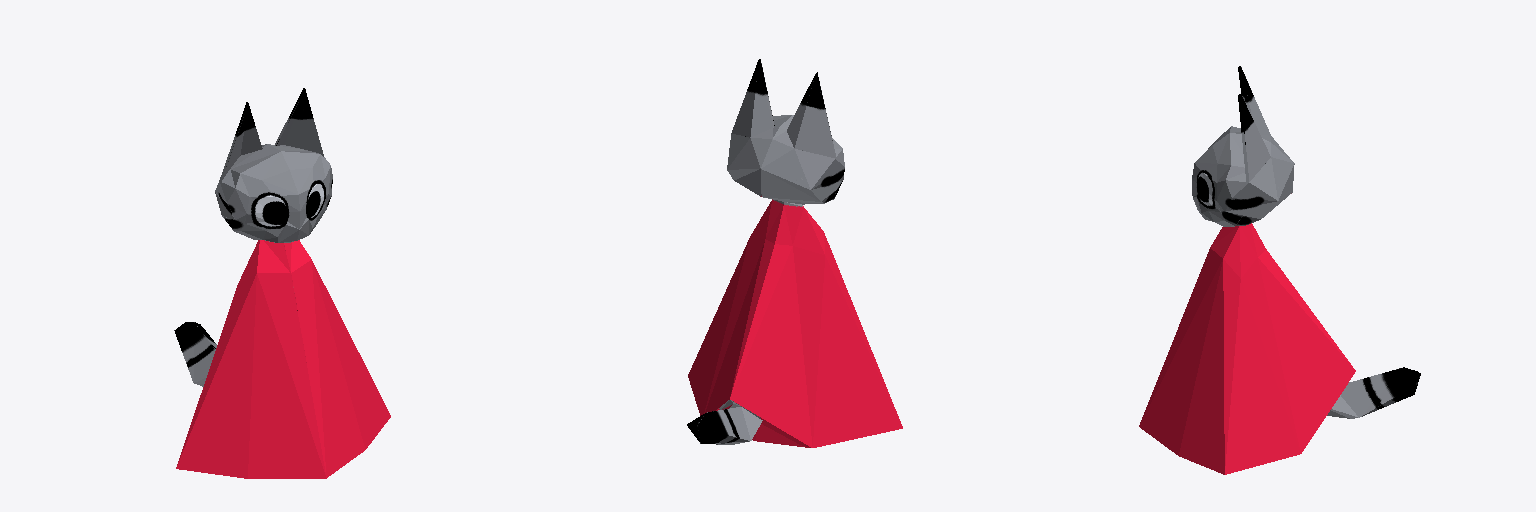
3 views of the same model, side by side, from view 1: azimuth 30°, elevation 25°; view 2: azimuth 150°, elevation 25°; view 3: azimuth 270°, elevation 25° (orthographic).
Parts seen in each view (by area): view 1: Cube; view 2: Cube; view 3: Cube.
Boxes of the visible parts, x1,y1,x2,y2 form: Cube: [174, 88, 390, 478]; Cube: [687, 59, 902, 447]; Cube: [1139, 66, 1420, 474].
Bounding box in the file's own units: 11.33 × 17.68 × 12.85.
1 materials, 1 textured.